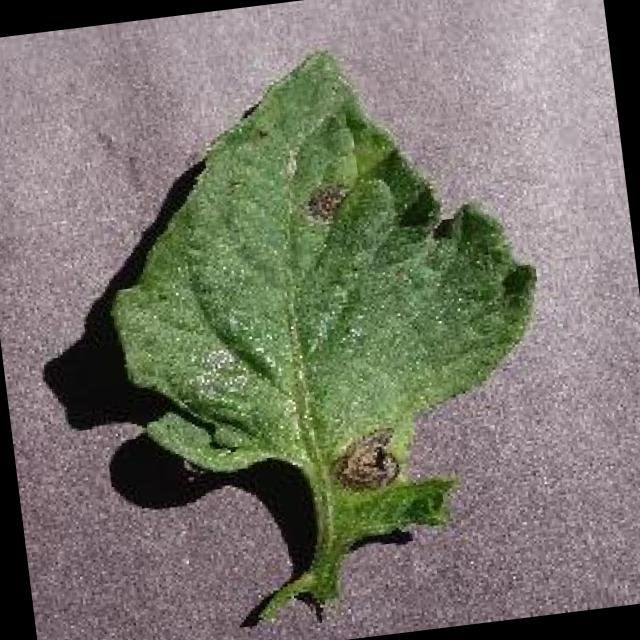Tomato_Early_Blight: (246, 116, 449, 246), (298, 404, 455, 562)
